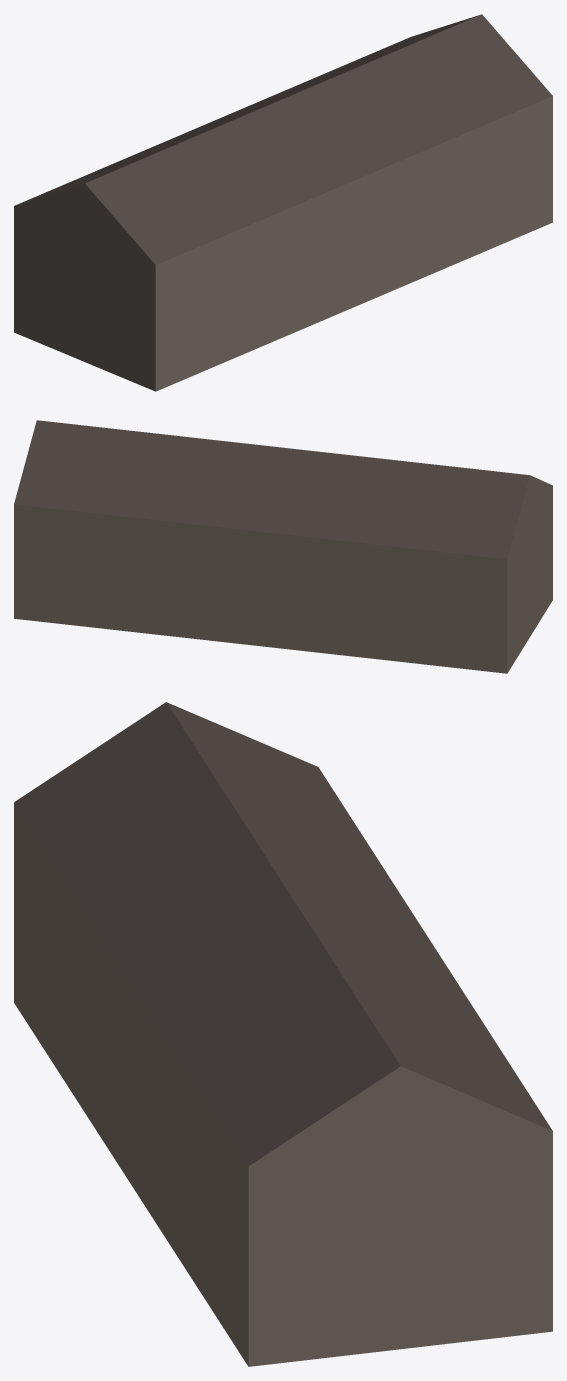
3 views of the same model, one above another, from view 1: azimuth 30°, elevation 25°; view 2: azimuth 150°, elevation 25°; view 3: azimuth 270°, elevation 25° (orthographic). The views are drawn at different scales.
Parts seen in each view (by area): view 1: HP-w859424212; view 2: HP-w859424212; view 3: HP-w859424212.
Boxes of the visible parts, left/top/right/bottom form: HP-w859424212: left=14, top=14, right=552, bottom=391; HP-w859424212: left=14, top=420, right=552, bottom=673; HP-w859424212: left=14, top=702, right=552, bottom=1366.
Size of the model in its own units: 25.65 by 8.47 by 14.62.
